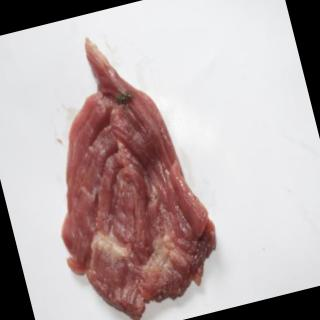Daging Sapi: (17, 20, 233, 320)
